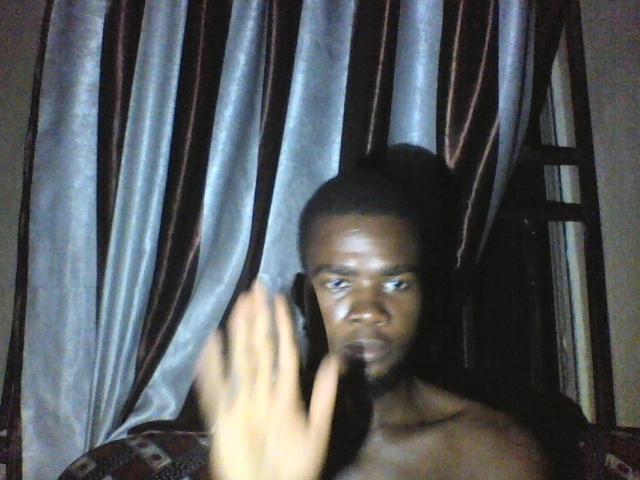hello: (191, 279, 347, 479)
